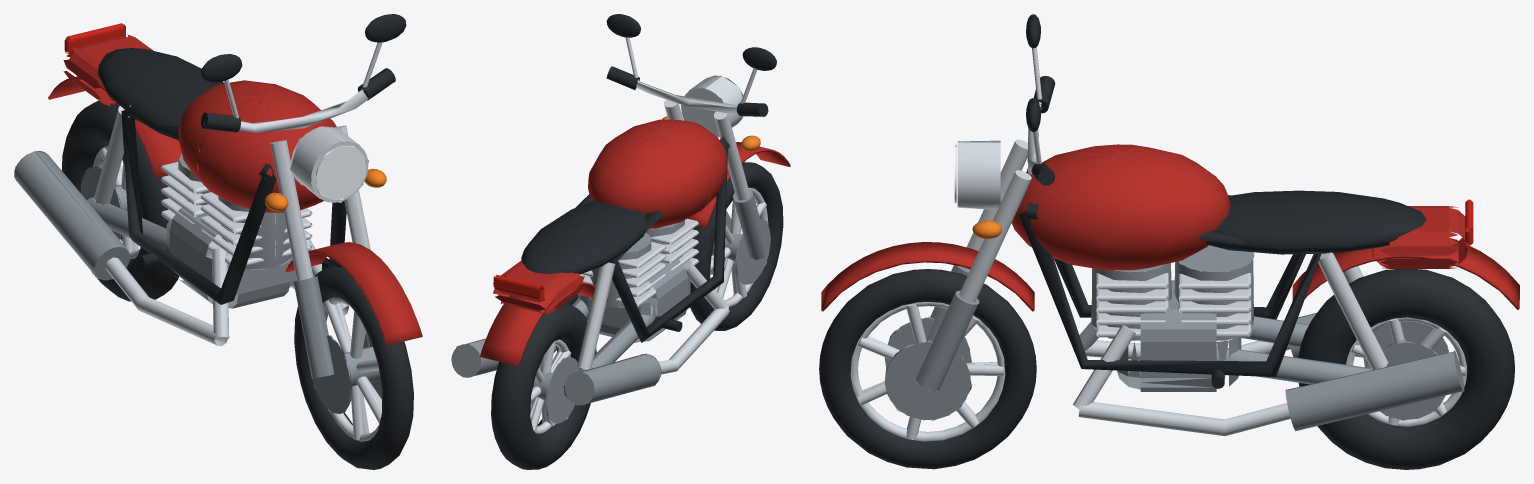
The model's file is moto_city.glb.
The picture shows the model from 3 angles, left to right: view 1: azimuth 30°, elevation 25°; view 2: azimuth 150°, elevation 25°; view 3: azimuth 270°, elevation 25°; orthographic projection. The views are drawn at different scales.
Visible parts, largest first — view 1: paint-red-Motorcycle body, alloy-chrome-Motorcycle body, alloy-steel-Motorcycle body, rubber-black-Motorcycle body, rubber-rubber-wheel-front, rubber-rubber-wheel-back, alloy-chrome-wheel-front, alloy-steel-wheel-front, headlamp-lamp-Motorcycle body, taillamp-tail-Motorcycle body, alloy-steel-wheel-back, indicator-orange-Motorcycle body (+1 smaller); view 2: paint-red-Motorcycle body, rubber-black-Motorcycle body, alloy-chrome-Motorcycle body, alloy-steel-Motorcycle body, rubber-rubber-wheel-back, rubber-rubber-wheel-front, alloy-steel-wheel-back, alloy-chrome-wheel-front, alloy-steel-wheel-front, alloy-chrome-wheel-back, taillamp-tail-Motorcycle body; view 3: paint-red-Motorcycle body, alloy-steel-Motorcycle body, alloy-chrome-Motorcycle body, rubber-black-Motorcycle body, rubber-rubber-wheel-back, rubber-rubber-wheel-front, alloy-chrome-wheel-front, alloy-steel-wheel-front, alloy-steel-wheel-back, alloy-chrome-wheel-back.
Boxes of the visible parts, box(x1,y1,x2,y2) form: paint-red-Motorcycle body: box(48, 34, 422, 345); alloy-chrome-Motorcycle body: box(94, 42, 382, 346); alloy-steel-Motorcycle body: box(14, 151, 372, 378); rubber-black-Motorcycle body: box(98, 14, 406, 304); rubber-rubber-wheel-front: box(294, 266, 413, 469); rubber-rubber-wheel-back: box(61, 100, 179, 301); alloy-chrome-wheel-front: box(323, 297, 381, 441); alloy-steel-wheel-front: box(312, 333, 382, 413); headlamp-lamp-Motorcycle body: box(315, 145, 366, 199); taillamp-tail-Motorcycle body: box(64, 23, 125, 54); alloy-steel-wheel-back: box(81, 166, 127, 239); indicator-orange-Motorcycle body: box(265, 168, 386, 211); paint-red-Motorcycle body: box(480, 119, 790, 366); rubber-black-Motorcycle body: box(521, 14, 776, 342); alloy-chrome-Motorcycle body: box(577, 37, 766, 374); alloy-steel-Motorcycle body: box(451, 189, 768, 405); rubber-rubber-wheel-back: box(491, 302, 596, 469); rubber-rubber-wheel-front: box(690, 162, 783, 330); alloy-steel-wheel-back: box(530, 357, 580, 423); alloy-chrome-wheel-front: box(710, 187, 768, 306); alloy-steel-wheel-front: box(710, 210, 770, 284); alloy-chrome-wheel-back: box(530, 339, 571, 433); taillamp-tail-Motorcycle body: box(493, 274, 544, 300); paint-red-Motorcycle body: box(821, 144, 1519, 311); alloy-steel-Motorcycle body: box(915, 245, 1464, 431); alloy-chrome-Motorcycle body: box(957, 47, 1388, 435); rubber-black-Motorcycle body: box(1019, 14, 1426, 388); rubber-rubber-wheel-back: box(1298, 269, 1514, 469); rubber-rubber-wheel-front: box(819, 269, 1036, 469); alloy-chrome-wheel-front: box(850, 302, 1005, 441); alloy-steel-wheel-front: box(884, 316, 971, 420); alloy-steel-wheel-back: box(1363, 321, 1448, 420); alloy-chrome-wheel-back: box(1346, 317, 1466, 426).
Bounding box in the file's own units: 0.75 × 1.37 × 2.12.
